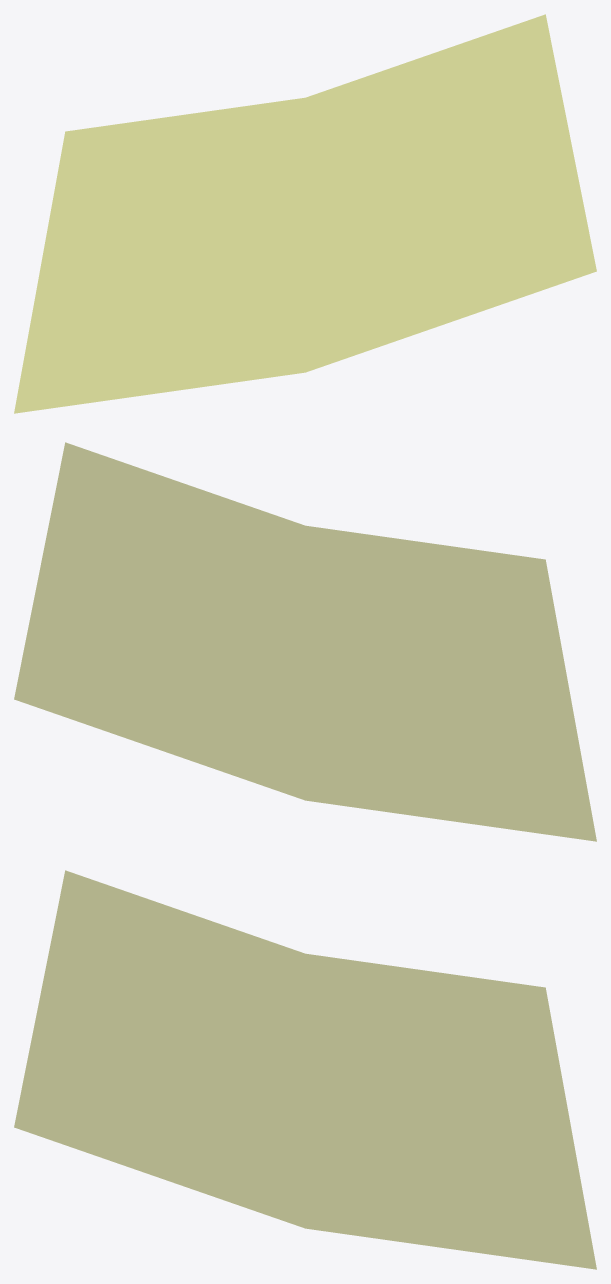
The model's file is Penalty_Short3.fbx.
3 views of the same model, one above another, from view 1: azimuth 30°, elevation 25°; view 2: azimuth 150°, elevation 25°; view 3: azimuth 330°, elevation 25° (orthographic).
Visible parts, largest first — view 1: Cylinder; view 2: Cylinder; view 3: Cylinder.
Boxes of the visible parts, x1=… form: Cylinder: x1=14, y1=14, x2=596, y2=413; Cylinder: x1=14, y1=442, x2=596, y2=841; Cylinder: x1=14, y1=870, x2=596, y2=1269.
Size of the model in its own units: 293 by 144 by 0.
